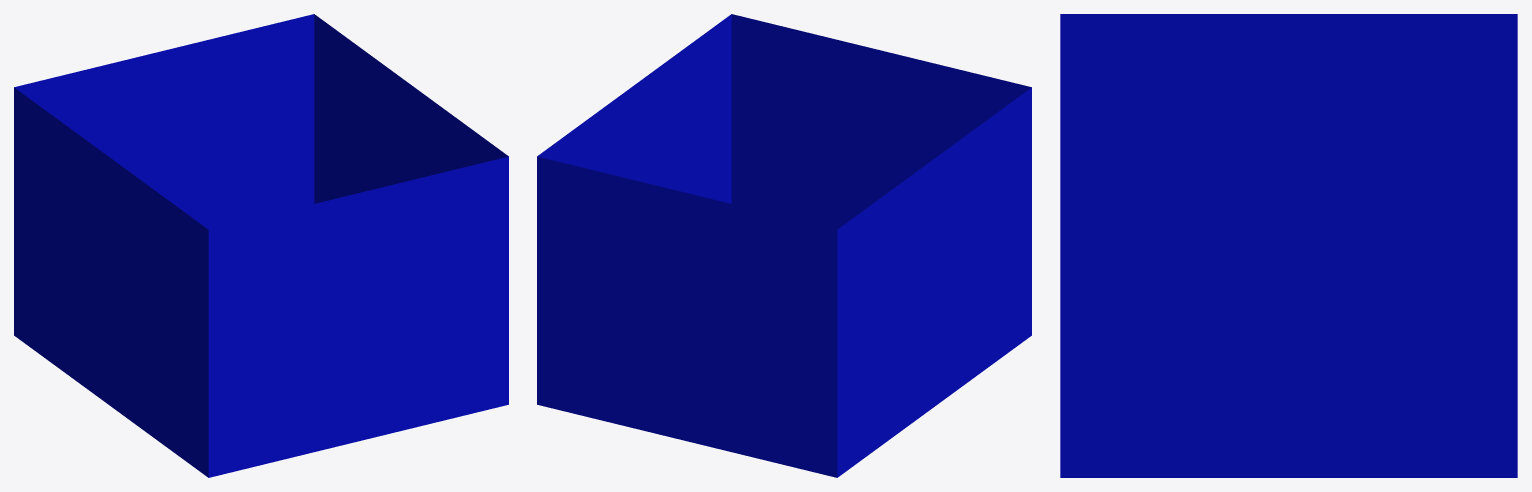
File: battleField.fbx
3 renders of one model, left to right at view 1: azimuth 30°, elevation 25°; view 2: azimuth 150°, elevation 25°; view 3: azimuth 270°, elevation 25°, orthographic. The views are drawn at different scales.
Visible parts, largest first — view 1: battlefield, battlefield-flloor; view 2: battlefield, battlefield-flloor; view 3: battlefield, battlefield-flloor.
Part boxes in pixels (left/top/right/bottom): battlefield: left=14, top=14, right=508, bottom=453; battlefield-flloor: left=14, top=311, right=508, bottom=477; battlefield: left=537, top=14, right=1031, bottom=453; battlefield-flloor: left=537, top=311, right=1031, bottom=477; battlefield: left=1060, top=14, right=1517, bottom=449; battlefield-flloor: left=1060, top=449, right=1517, bottom=477.
Bounding box in the file's own units: 750 × 592 × 842.
